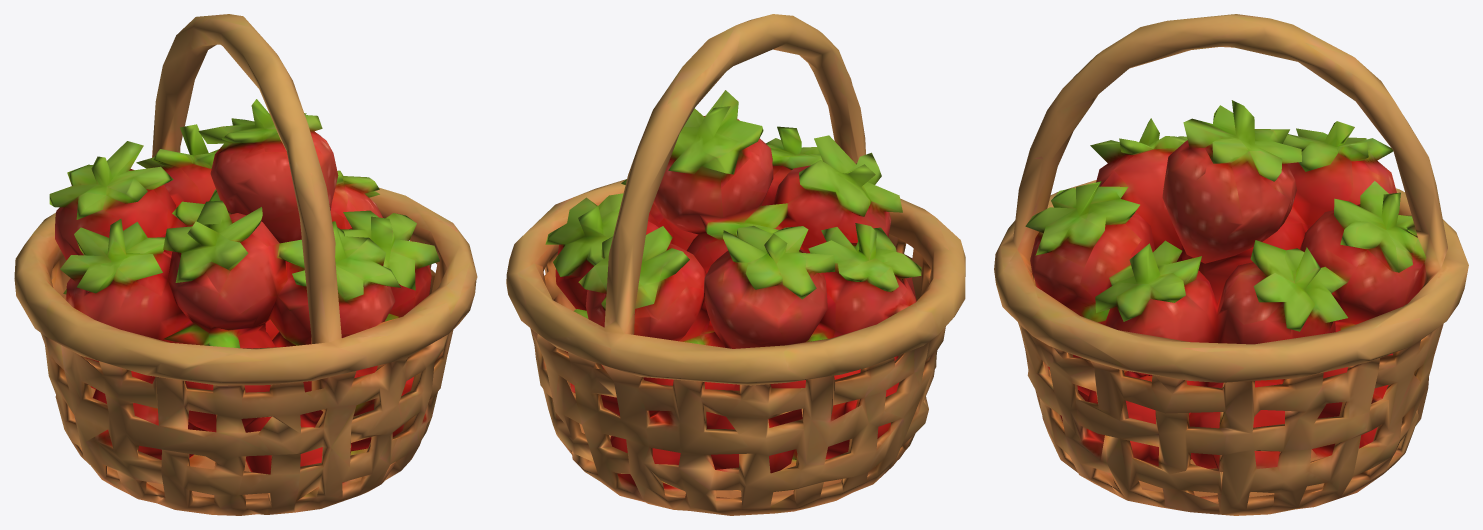
File: strawberry_basket.glb
3 views of the same model, side by side, from view 1: azimuth 30°, elevation 25°; view 2: azimuth 150°, elevation 25°; view 3: azimuth 270°, elevation 25° (orthographic). The views are drawn at different scales.
Visible parts, largest first — view 1: tripo_node_dcd14f38-0a1e-40fb-a28b-0020f2047f49; view 2: tripo_node_dcd14f38-0a1e-40fb-a28b-0020f2047f49; view 3: tripo_node_dcd14f38-0a1e-40fb-a28b-0020f2047f49.
Part boxes in pixels (bbox=[...]): tripo_node_dcd14f38-0a1e-40fb-a28b-0020f2047f49: bbox=[14, 14, 477, 515]; tripo_node_dcd14f38-0a1e-40fb-a28b-0020f2047f49: bbox=[506, 14, 965, 515]; tripo_node_dcd14f38-0a1e-40fb-a28b-0020f2047f49: bbox=[994, 14, 1468, 515].
Size of the model in its own units: 0.2983 by 0.3 by 0.2986.
1 material, 1 textured.
